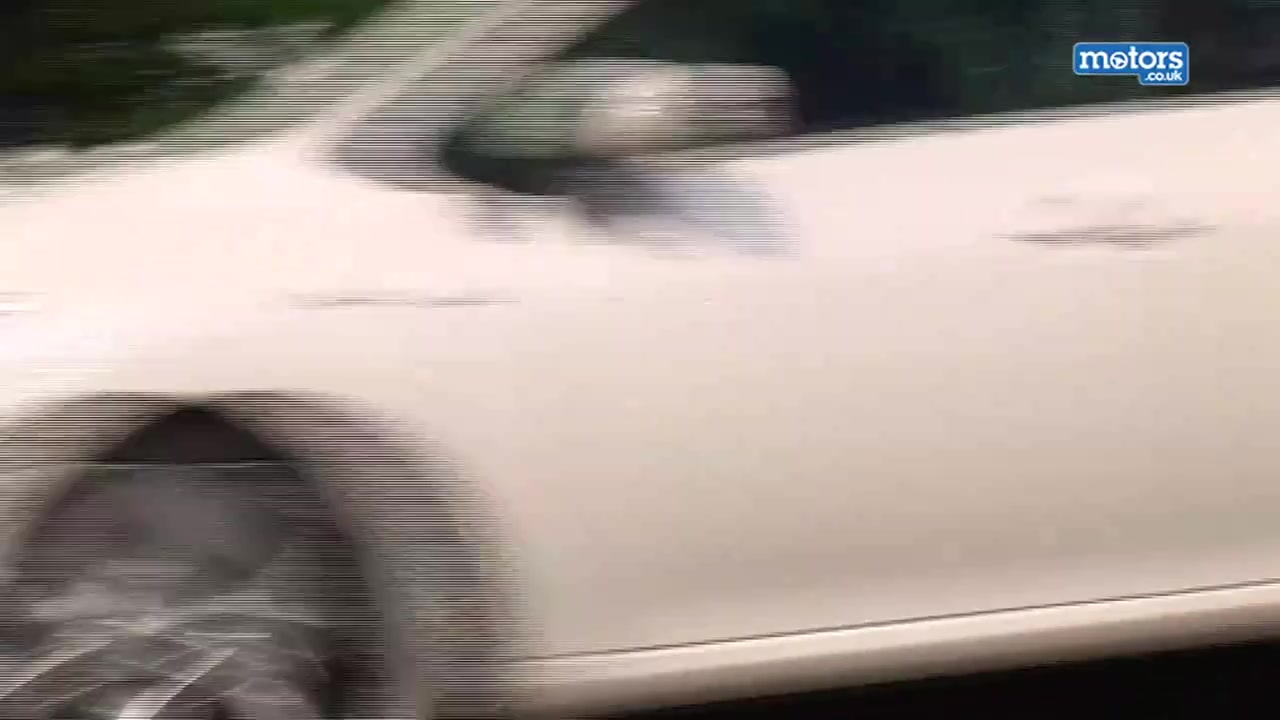car: (1, 2, 1280, 720)
